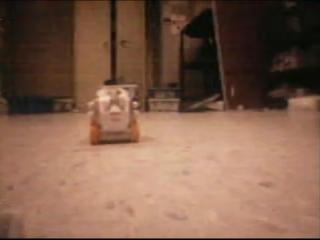cozmo: (86, 84, 140, 146)
